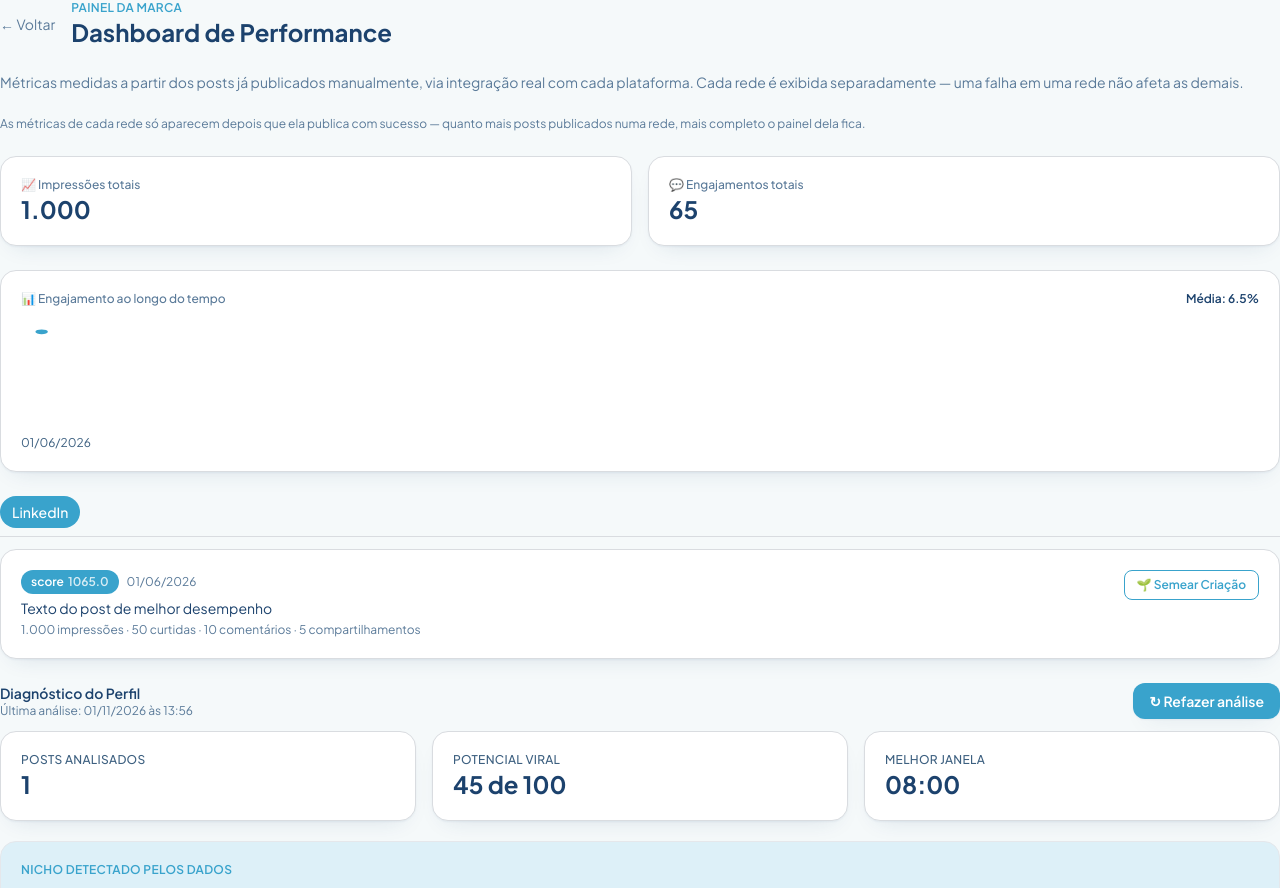
Test: PerformanceDashboardPage › permite refazer a análise manualmente após a análise automática terminar
What coordinates should you click on to do the following:
click the button "↻ Refazer análise"
I would click on:
 (1207, 701)
Its box is [1133, 683, 1279, 719].
(page scrolled)
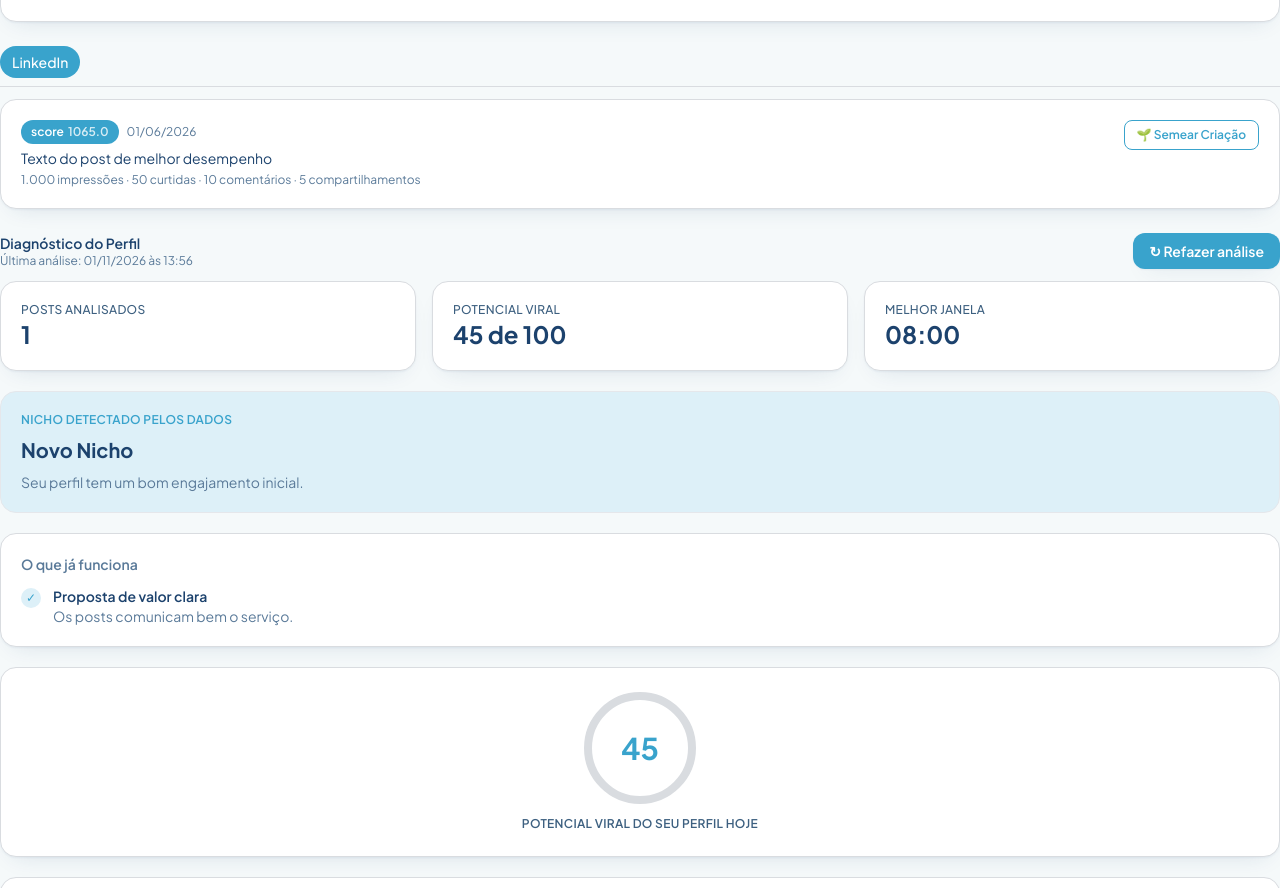
Now the heading "Novo Nicho" is shown, box [21, 437, 133, 462]
